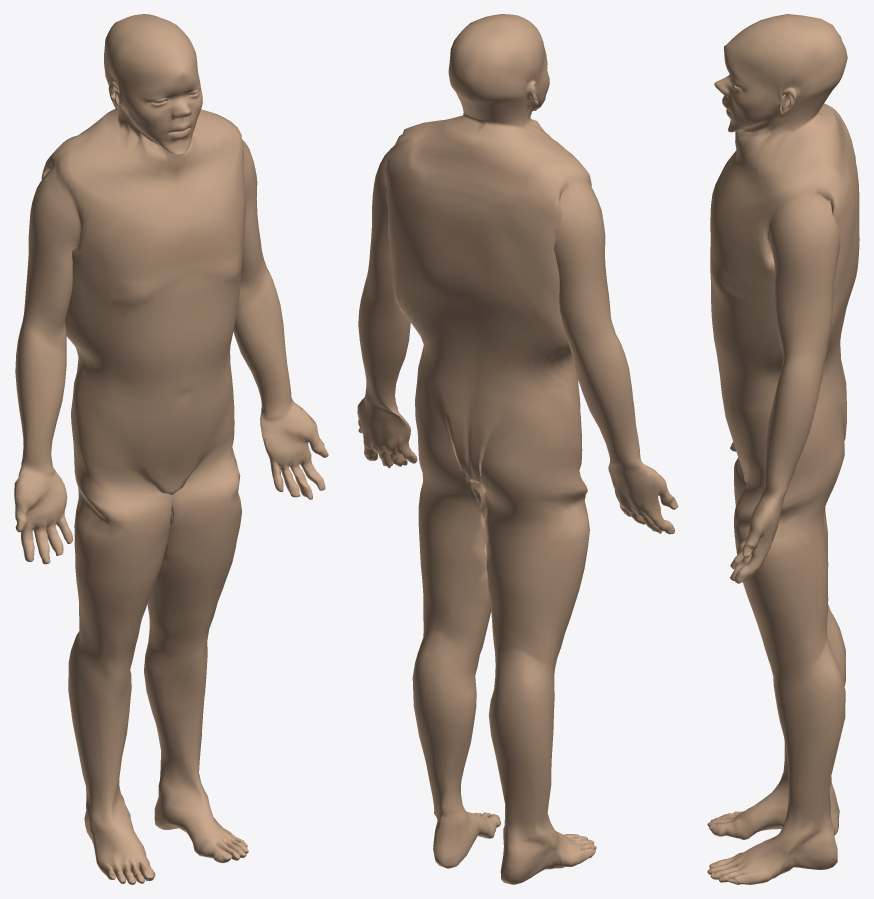
Rendered from skin-candidate-f2c2.glb.
The picture shows the model from 3 angles, left to right: view 1: azimuth 30°, elevation 25°; view 2: azimuth 150°, elevation 25°; view 3: azimuth 270°, elevation 25°; orthographic projection. The views are drawn at different scales.
Parts seen in each view (by area): view 1: MakeHuman_AT10_skin_fit_candidate_f2c2; view 2: MakeHuman_AT10_skin_fit_candidate_f2c2; view 3: MakeHuman_AT10_skin_fit_candidate_f2c2.
Part boxes in pixels (x1,y1,x2,y2): MakeHuman_AT10_skin_fit_candidate_f2c2: (14,14,328,884); MakeHuman_AT10_skin_fit_candidate_f2c2: (357,14,678,884); MakeHuman_AT10_skin_fit_candidate_f2c2: (707,14,859,884).
Size of the model in its own units: 0.6758 by 1.71 by 0.2826.
